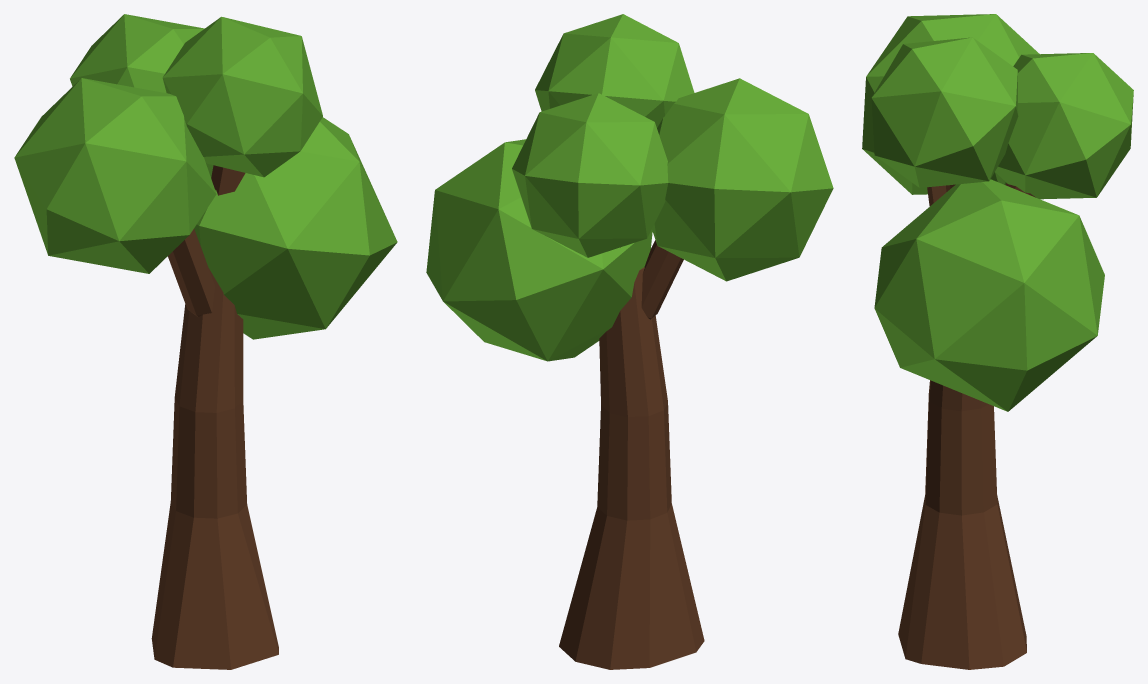
Rendered from Tree 4.fbx.
3 renders of one model, left to right at view 1: azimuth 30°, elevation 25°; view 2: azimuth 150°, elevation 25°; view 3: azimuth 270°, elevation 25°, orthographic. The views are drawn at different scales.
Parts seen in each view (by area): view 1: Cylinder, Sphere_3, Sphere_2, Sphere, Sphere_1, Cylinder_1, Cylinder_2; view 2: Cylinder, Sphere_3, Sphere_2, Sphere_1, Sphere, Cylinder_1; view 3: Sphere_2, Cylinder, Sphere, Sphere_1, Sphere_3.
Boxes of the visible parts, x1=… form: Cylinder: x1=151, y1=268, x2=278, y2=669; Sphere_3: x1=14, y1=78, x2=216, y2=273; Sphere_2: x1=194, y1=117, x2=397, y2=339; Sphere: x1=162, y1=16, x2=322, y2=177; Sphere_1: x1=70, y1=14, x2=204, y2=93; Cylinder_1: x1=168, y1=229, x2=215, y2=317; Cylinder_2: x1=211, y1=165, x2=245, y2=195; Cylinder: x1=559, y1=267, x2=704, y2=669; Sphere_3: x1=652, y1=78, x2=833, y2=281; Sphere_2: x1=426, y1=139, x2=652, y2=361; Sphere_1: x1=512, y1=93, x2=668, y2=257; Sphere: x1=535, y1=14, x2=694, y2=127; Cylinder_1: x1=641, y1=240, x2=683, y2=319; Sphere_2: x1=874, y1=179, x2=1104, y2=411; Cylinder: x1=898, y1=380, x2=1026, y2=669; Sphere: x1=871, y1=37, x2=1018, y2=187; Sphere_1: x1=995, y1=53, x2=1133, y2=199; Sphere_3: x1=862, y1=14, x2=1039, y2=194.
Bounding box in the file's own units: 7420 × 12156 × 4890.
